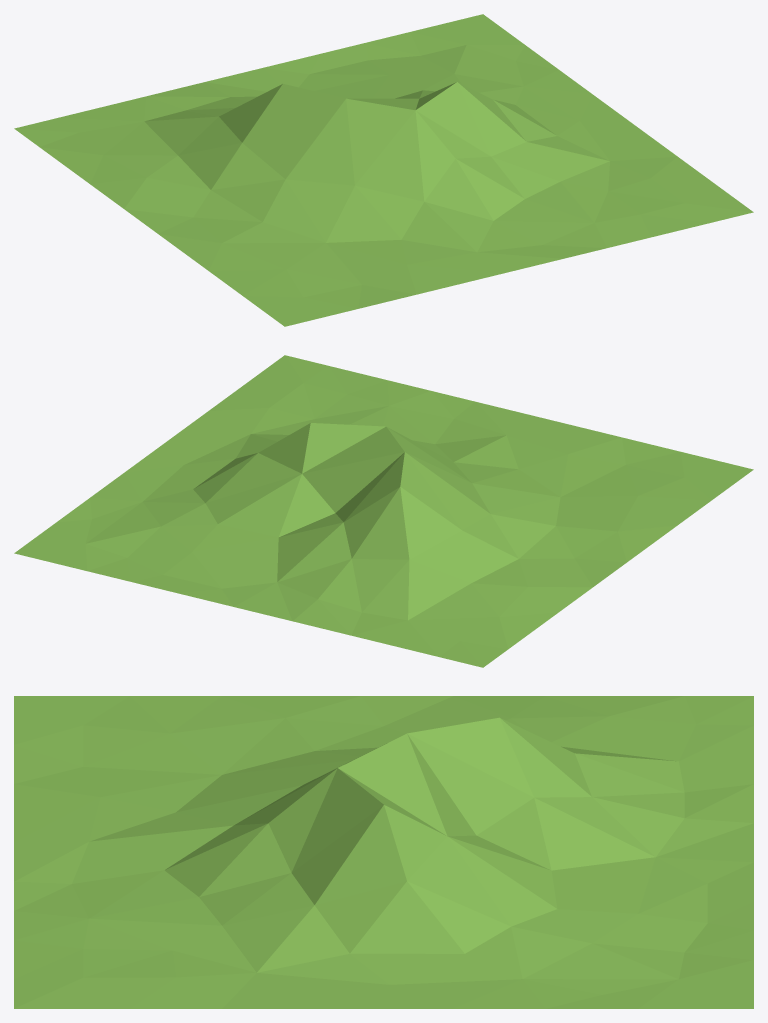
The model's file is MT_Terrain_S_a_21_LOD.fbx.
The picture shows the model from 3 angles, top to bottom: view 1: azimuth 30°, elevation 25°; view 2: azimuth 150°, elevation 25°; view 3: azimuth 270°, elevation 25°; orthographic projection. The views are drawn at different scales.
Parts seen in each view (by area): view 1: MT_Terrain_S_a_21_LOD0; view 2: MT_Terrain_S_a_21_LOD0; view 3: MT_Terrain_S_a_21_LOD0.
Part boxes in pixels (left/top/right/bottom): MT_Terrain_S_a_21_LOD0: left=14, top=14, right=753, bottom=326; MT_Terrain_S_a_21_LOD0: left=14, top=355, right=753, bottom=667; MT_Terrain_S_a_21_LOD0: left=14, top=696, right=753, bottom=1008.
Size of what is drawn, in the model's own units: 2500 by 379 by 2500.
